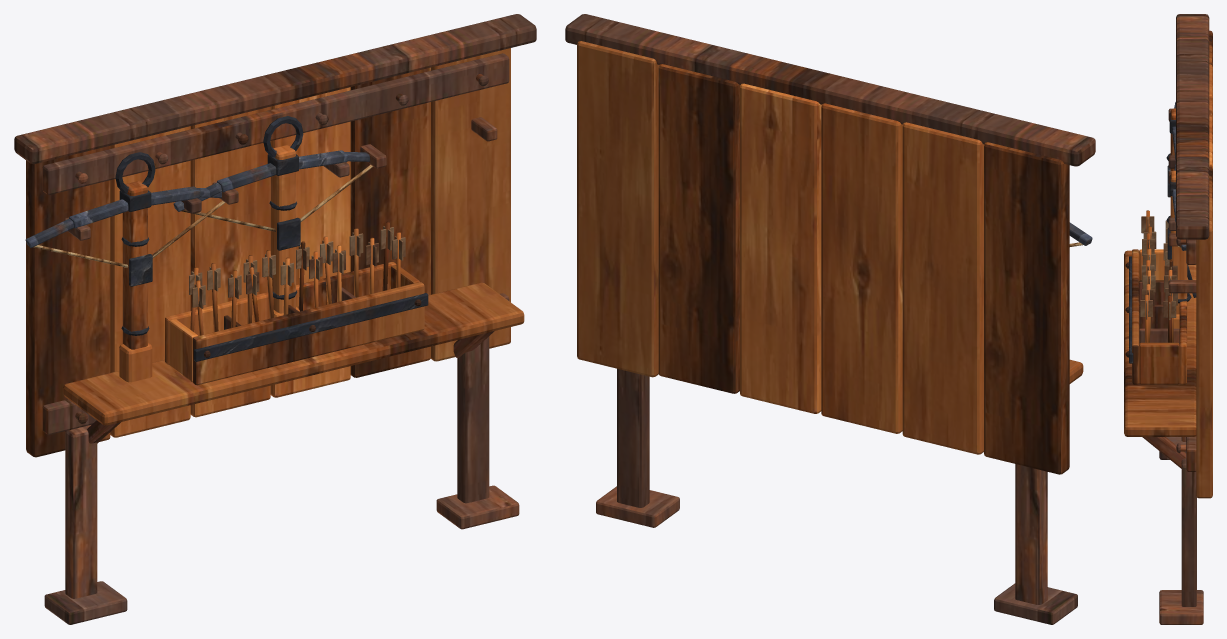
The model's file is mg_crossbow_rack.glb.
3 renders of one model, left to right at view 1: azimuth 30°, elevation 25°; view 2: azimuth 150°, elevation 25°; view 3: azimuth 270°, elevation 25°, orthographic. The views are drawn at different scales.
Visible parts, largest first — view 1: model; view 2: model; view 3: model.
Part boxes in pixels (bbox=[...]): model: bbox=[14, 14, 536, 624]; model: bbox=[565, 14, 1095, 624]; model: bbox=[1124, 14, 1212, 624].
Size of the model in its own units: 1.37 by 1.23 by 0.241.
Materials: 13 (13 with a texture image).
